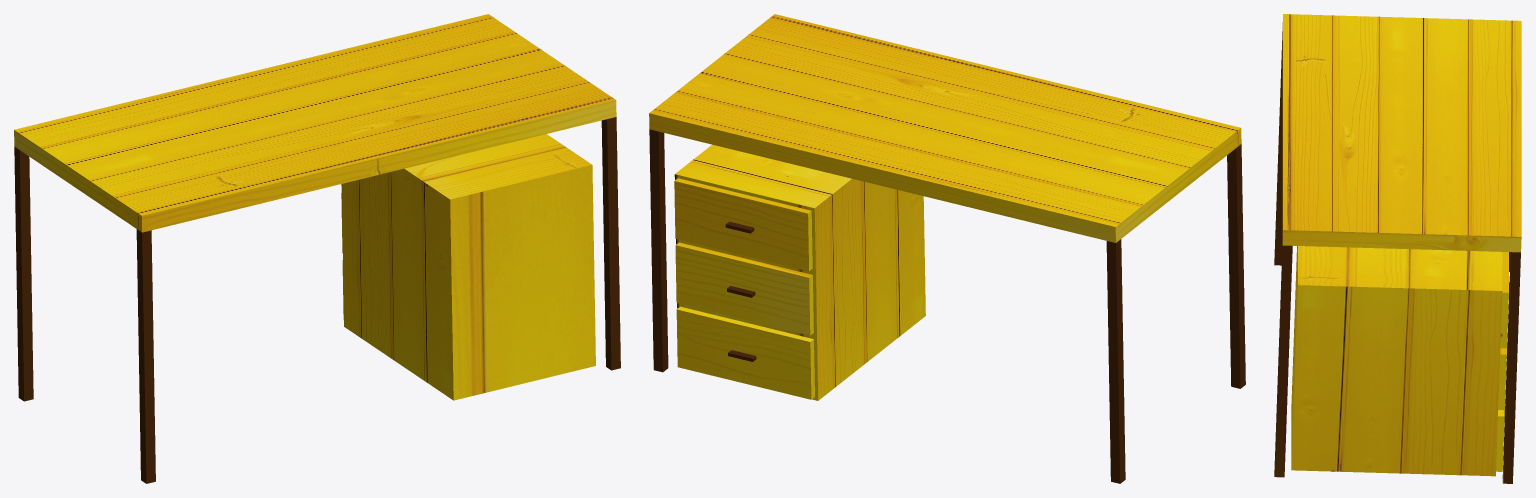
Rendered from office_texture_test1.glb.
3 renders of one model, left to right at view 1: azimuth 30°, elevation 25°; view 2: azimuth 150°, elevation 25°; view 3: azimuth 270°, elevation 25°, orthographic. The views are drawn at different scales.
Visible parts, largest first — view 1: world; view 2: world; view 3: world.
Part boxes in pixels (left/top/right/bottom): world: left=14, top=14, right=620, bottom=483; world: left=649, top=14, right=1245, bottom=483; world: left=1274, top=14, right=1521, bottom=483.
Bounding box in the file's own units: 1.5 × 0.8219 × 0.7252.
1 material, 1 textured.
